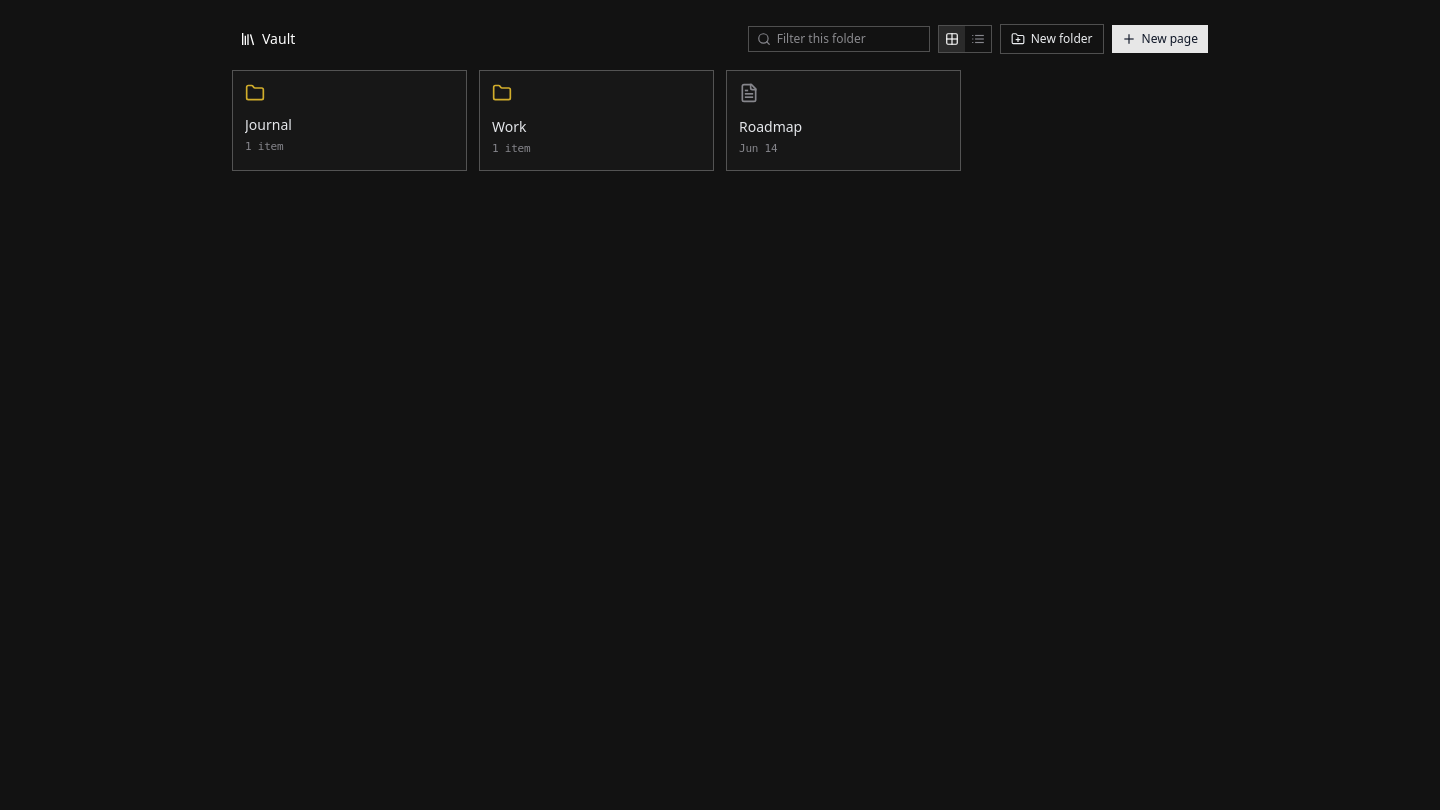
Scenario: VaultBrowserPane - right-click menu › closes when you click away
Right-click the element showing "Work 1 item" at (596, 120), box top-left (479, 70), bottom-right (714, 170)
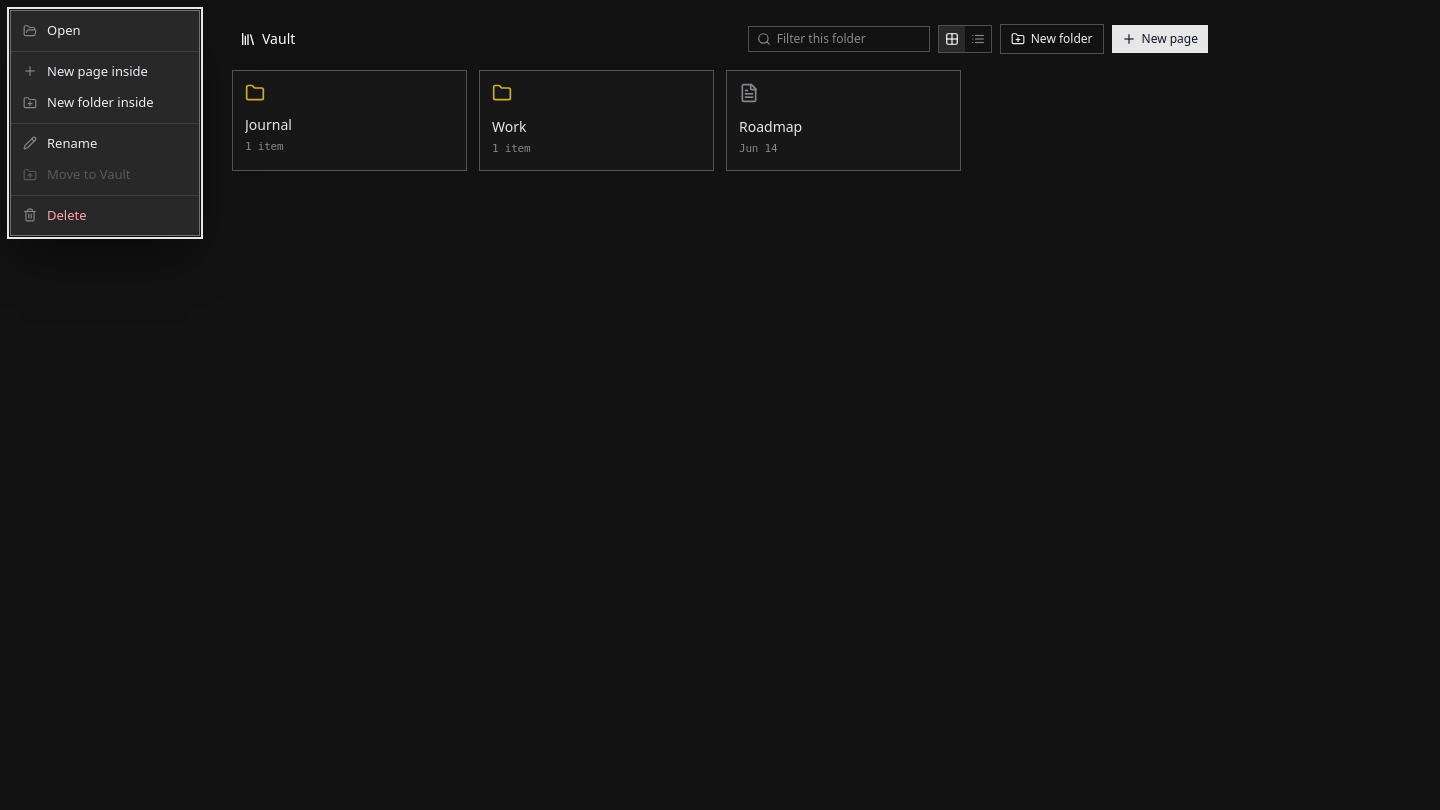
Press the mouse on the element that starts with "Vault" at (720, 405), box top-left (0, 0), bottom-right (1439, 809)
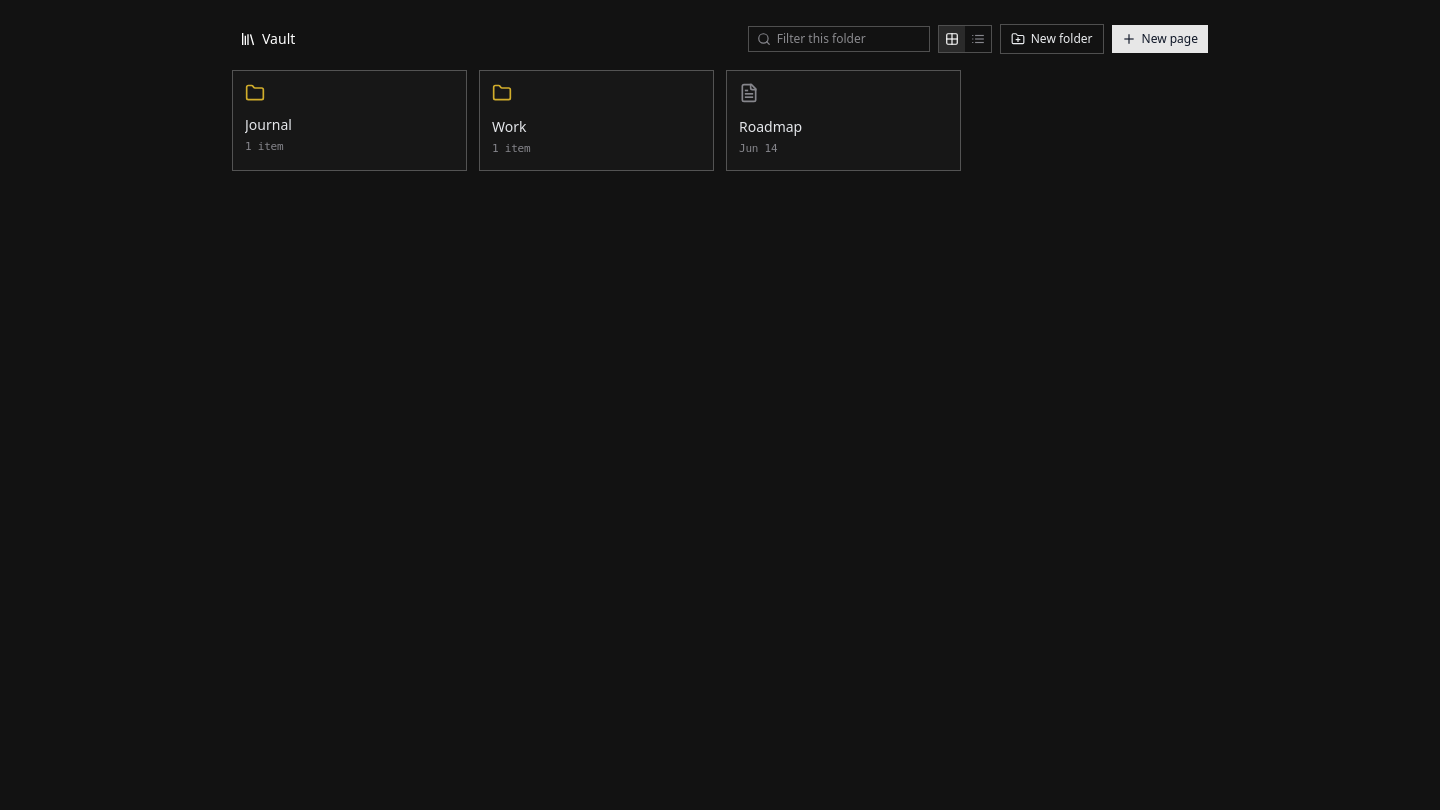
Expected: the menu is gone
